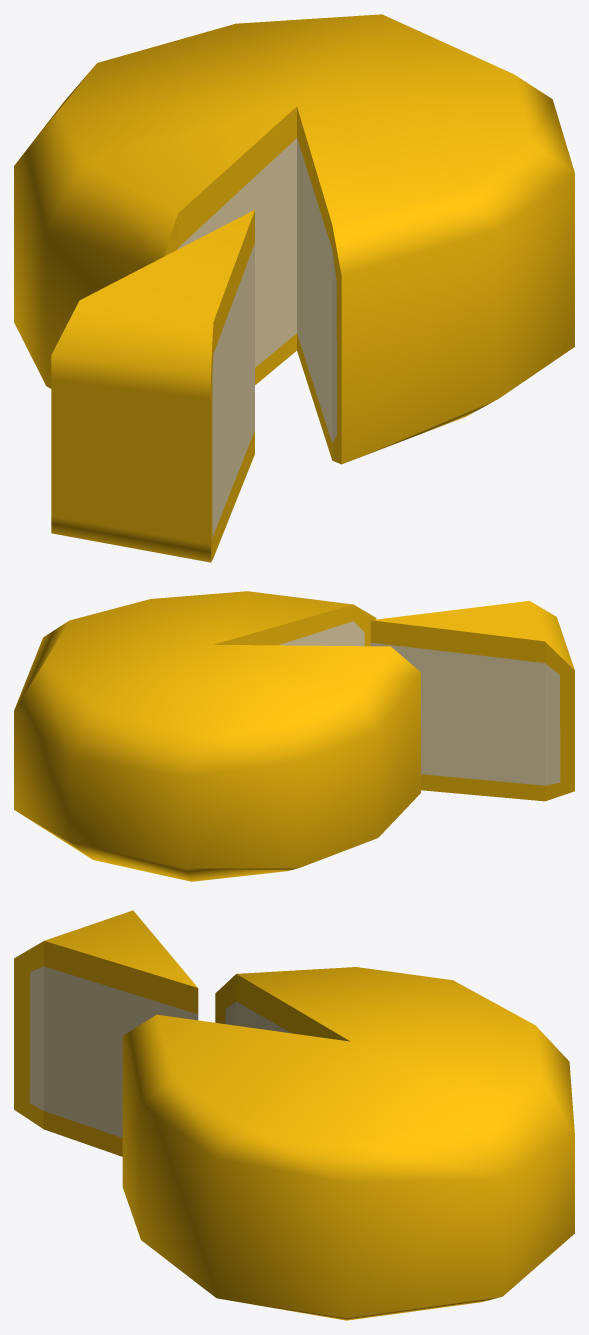
The model's file is Cheese_D.fbx.
3 renders of one model, top to bottom at view 1: azimuth 30°, elevation 25°; view 2: azimuth 150°, elevation 25°; view 3: azimuth 270°, elevation 25°, orthographic. The views are drawn at different scales.
Parts seen in each view (by area): view 1: Cheese_D; view 2: Cheese_D; view 3: Cheese_D.
Part boxes in pixels (x1,y1,x2,y2): Cheese_D: [14, 14, 574, 562]; Cheese_D: [14, 591, 574, 881]; Cheese_D: [14, 910, 574, 1320].
Bounding box in the file's own units: 39.9 × 14.48 × 37.71.
